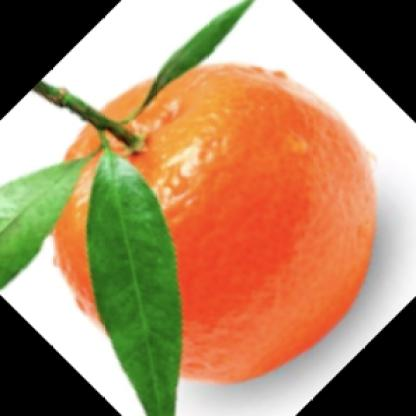fresh: (41, 62, 375, 382)
